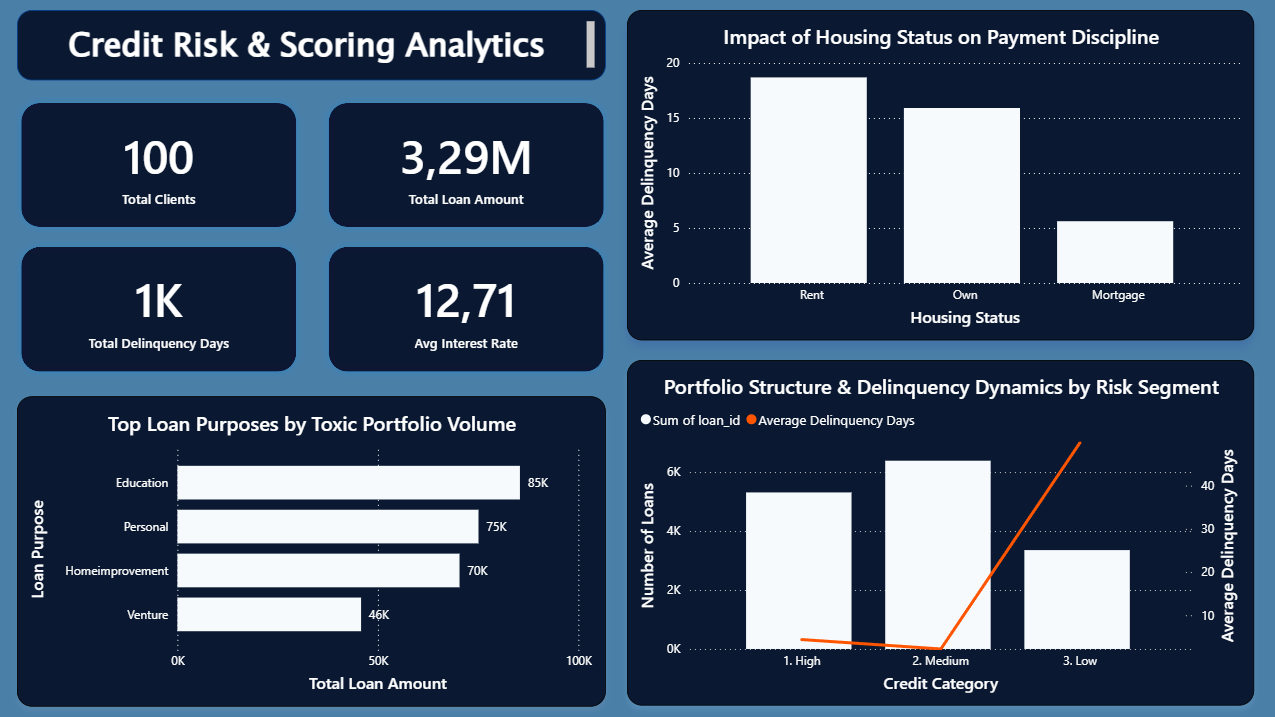

The page's visual inventory and layout, read from the dashboard file:
{"tool":"powerbi","page":{"name":"Page 1","canvas":[1280,720],"ordinal":0},"visuals":[{"type":"textbox","box":[20,10,588.6,70],"z":0},{"type":"cardVisual","fields":{"Data":["CountNonNull(public dim_customers.customer_id)"]},"box":[1.4,80,321.4,170],"z":1000},{"type":"clusteredBarChart","title":"Top Loan Purposes by Toxic Portfolio Volume","fields":{"Category":["public fact_loans.loan_purpose"],"Y":["public fact_loans.Total Loan Amount"]},"box":[20,395.7,588.6,310],"z":2000},{"type":"clusteredColumnChart","title":"Impact of Housing Status on Payment Discipline","fields":{"Category":["public dim_customers.housing_status"],"Y":["Avg(public fact_loans.days_past_due)"]},"box":[630,10,627.1,330],"z":3000},{"type":"lineClusteredColumnComboChart","title":"Portfolio Structure & Delinquency Dynamics by Risk Segment","fields":{"Category":["public dim_customers.Credit Category"],"Y":["Sum(public fact_loans.loan_id)"],"Y2":["Avg(public fact_loans.days_past_due)"]},"box":[630,360,627.1,345.7],"z":4000},{"type":"cardVisual","fields":{"Data":["public fact_loans.Total Loan Amount"]},"box":[308.6,80,321.4,170],"z":5000},{"type":"cardVisual","fields":{"Data":["Sum(public fact_loans.days_past_due)"]},"box":[1.4,224.3,321.4,171.4],"z":6000},{"type":"cardVisual","fields":{"Data":["public fact_loans.Avg Interest Rate"]},"box":[308.6,224.3,321.4,171.4],"z":7000}]}

Visuals, with their boxes in screenshot pixels (x1, y1, x2, y2), scaled from the page's 1280x720 canvas onto the 1275x717 screenshot:
textbox: l=20, t=10, r=606, b=80
cardVisual - CountNonNull(public dim_customers.customer_id): l=1, t=80, r=322, b=249
"Top Loan Purposes by Toxic Portfolio Volume" clusteredBarChart: l=20, t=394, r=606, b=703
"Impact of Housing Status on Payment Discipline" clusteredColumnChart: l=628, t=10, r=1252, b=339
"Portfolio Structure & Delinquency Dynamics by Risk Segment" lineClusteredColumnComboChart: l=628, t=358, r=1252, b=703
cardVisual - public fact_loans.Total Loan Amount: l=307, t=80, r=628, b=249
cardVisual - Sum(public fact_loans.days_past_due): l=1, t=223, r=322, b=394
cardVisual - public fact_loans.Avg Interest Rate: l=307, t=223, r=628, b=394
